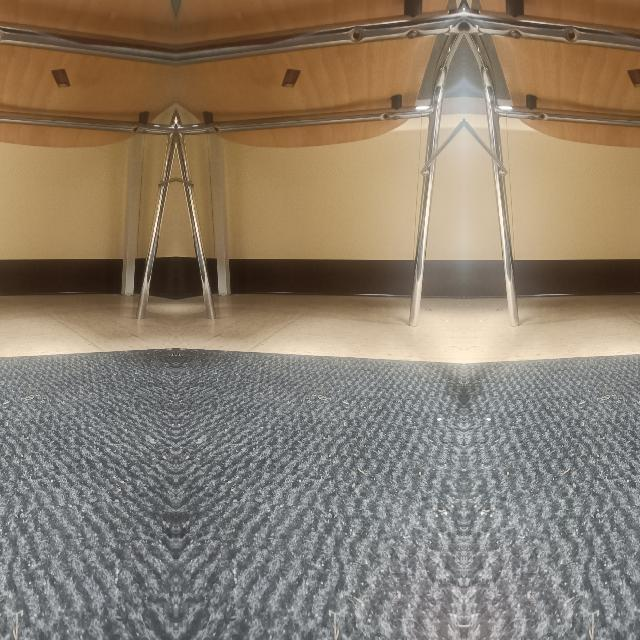obstacle: (184, 198, 432, 328), (0, 197, 166, 328), (494, 197, 640, 328)
